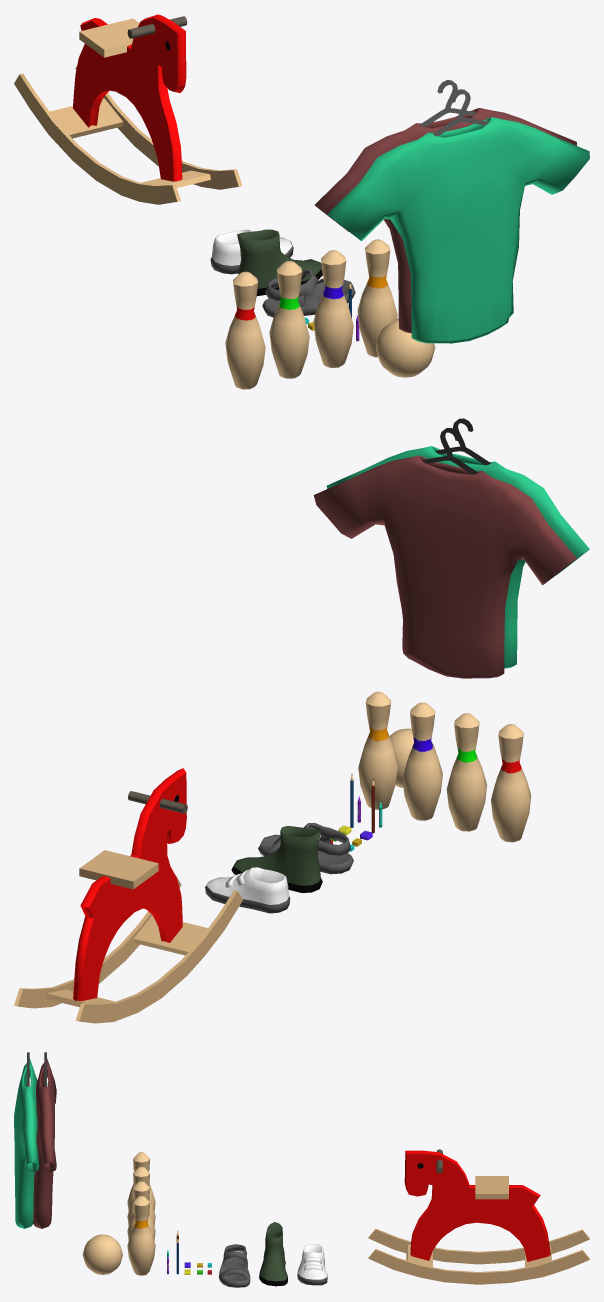
File: Assets_02.FBX
The picture shows the model from 3 angles, top to bottom: view 1: azimuth 30°, elevation 25°; view 2: azimuth 150°, elevation 25°; view 3: azimuth 270°, elevation 25°; orthographic projection. The views are drawn at different scales.
Visible parts, largest first — view 1: Shirt, RoadKillOut, Shirt001, Pin003, Pin001, Pin002, Pin, Shoe_02, Ball, Shoe_03, Shoe_01; view 2: Shirt001, RoadKillOut, Shirt, Pin001, Pin002, Pin003, Pin, Shoe_02, Shoe_01, Shoe_03, Ball; view 3: RoadKillOut, Shirt, Shirt001, Pin, Shoe_02, Ball, Shoe_03, Shoe_01, Pin001, Pin002, Pin003.
Boxes of the visible parts, x1,y1,x2,y2 form: Shirt: (327, 89, 589, 343); RoadKillOut: (14, 14, 242, 204); Shirt001: (315, 80, 576, 333); Pin003: (225, 271, 265, 389); Pin001: (313, 250, 353, 367); Pin002: (269, 261, 309, 378); Pin: (357, 239, 397, 357); Shoe_02: (237, 229, 322, 296); Ball: (375, 318, 435, 377); Shoe_03: (262, 269, 355, 317); Shoe_01: (210, 229, 293, 274); Shirt001: (313, 428, 576, 678); RoadKillOut: (14, 768, 242, 1023); Shirt: (326, 418, 589, 668); Pin001: (402, 702, 442, 820); Pin002: (446, 713, 486, 831); Pin003: (491, 724, 531, 842); Pin: (358, 691, 398, 809); Shoe_02: (231, 826, 322, 892); Shoe_01: (205, 867, 290, 913); Shoe_03: (258, 823, 353, 874); Ball: (389, 728, 435, 787); RoadKillOut: (368, 1149, 589, 1284); Shirt: (14, 1052, 39, 1228); Shirt001: (33, 1052, 56, 1228); Pin: (127, 1195, 155, 1275); Shoe_02: (259, 1222, 287, 1286); Ball: (82, 1234, 122, 1274); Shoe_03: (219, 1244, 250, 1287); Shoe_01: (297, 1244, 327, 1285); Pin001: (127, 1181, 155, 1240); Pin002: (127, 1166, 155, 1226); Pin003: (127, 1152, 155, 1211).
Size of the model in its own units: 820 by 914 by 2141.
Materials: 10 (10 with a texture image).
